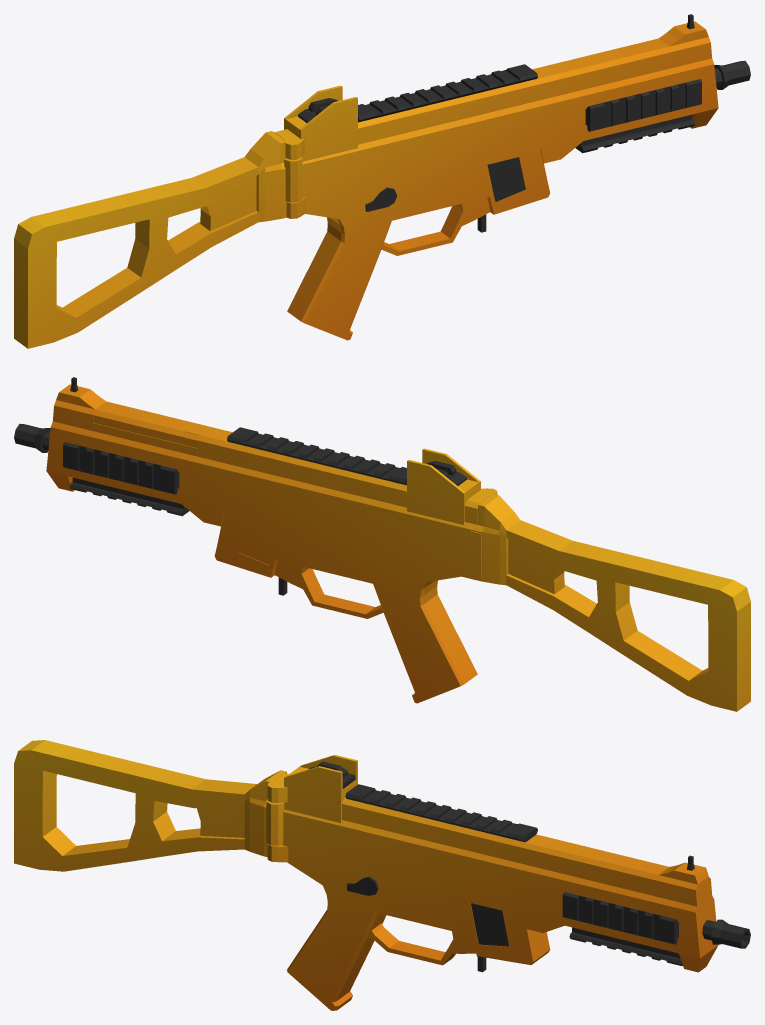
The model's file is SMG6_04.fbx.
3 renders of one model, top to bottom at view 1: azimuth 30°, elevation 25°; view 2: azimuth 150°, elevation 25°; view 3: azimuth 330°, elevation 25°, orthographic.
Visible parts, largest first — view 1: SMG6_04; view 2: SMG6_04; view 3: SMG6_04.
Boxes of the visible parts, x1,y1,x2,y2 form: SMG6_04: [14, 14, 750, 348]; SMG6_04: [14, 377, 750, 711]; SMG6_04: [14, 740, 750, 1010].
Bounding box in the file's own units: 0.7193 × 0.2278 × 0.0477.
